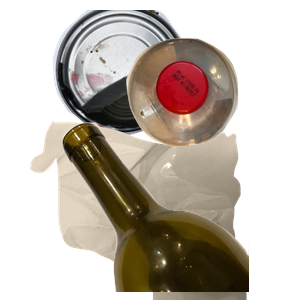glass: (60, 120, 300, 300)
metal: (50, 10, 262, 140)
plastic: (124, 36, 300, 175)
trash: (28, 120, 267, 300)
